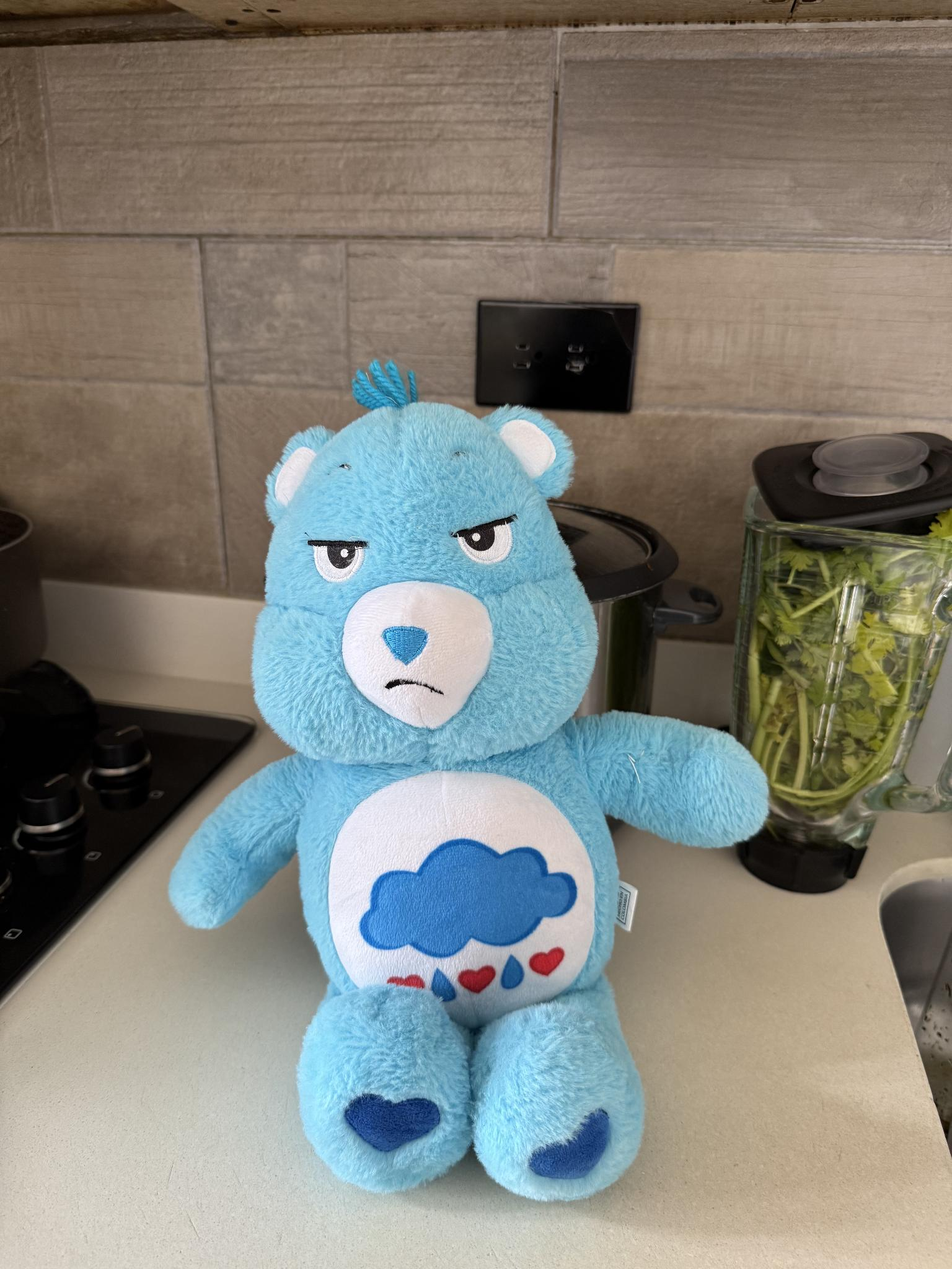peluche_Juan Jose: (167, 357, 773, 1204)
